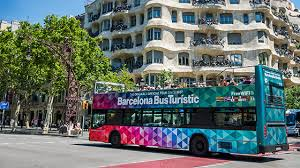bus: (88, 64, 290, 158)
